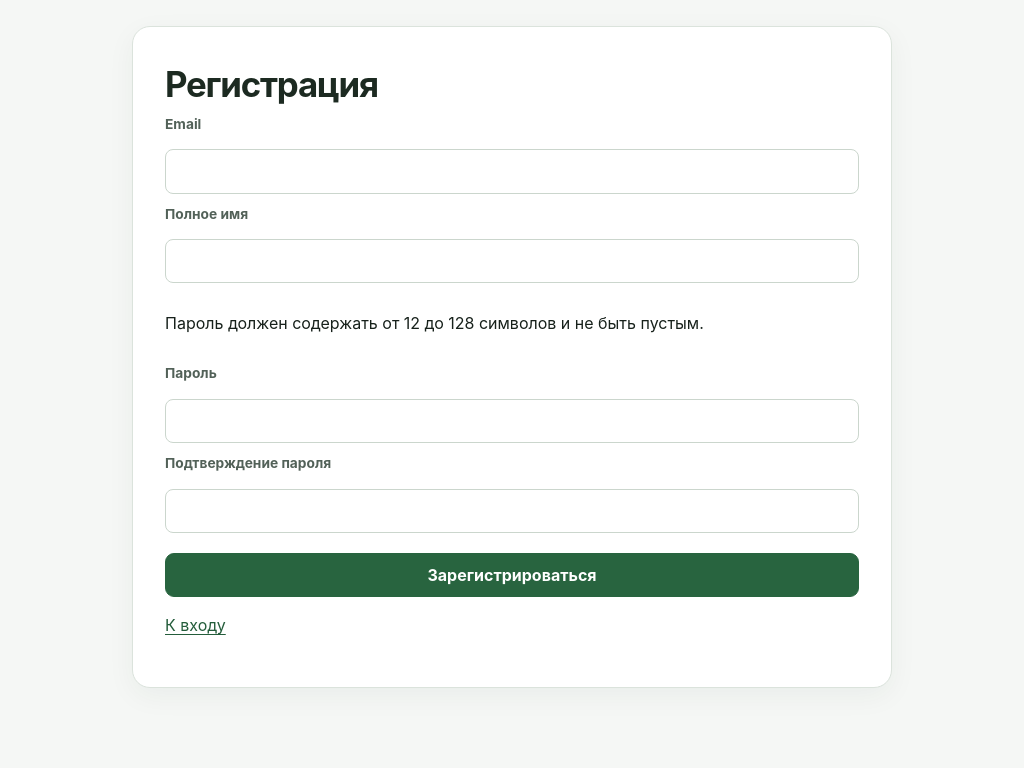
Test case: Accounts › validates registration short
Type "New@Example.com" into the field labelled "Email". click: [512, 171]
box: [165,149,859,194]
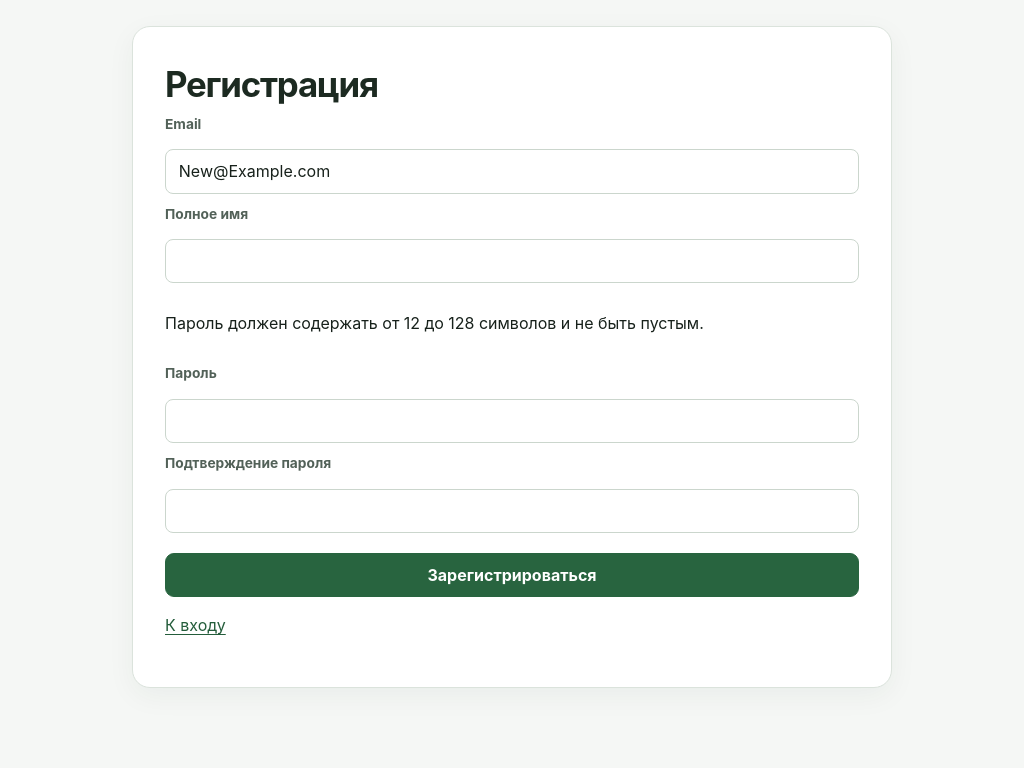
Type "New User" into the field labelled "Полное имя". click: [512, 261]
box: [165,239,859,284]
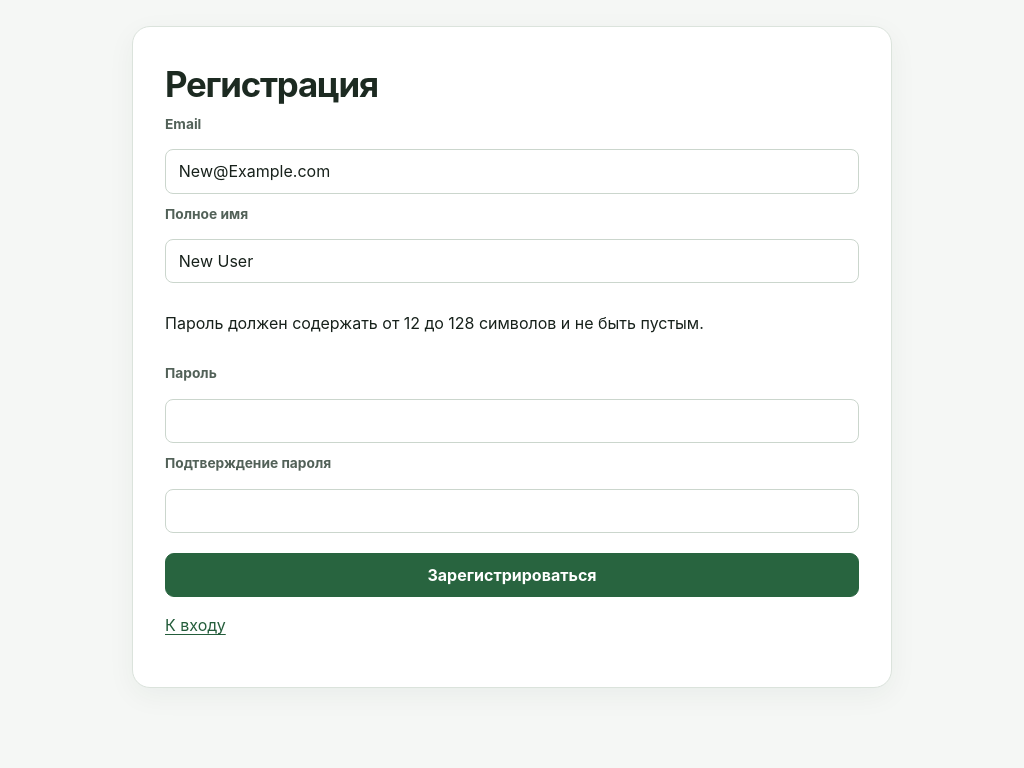
Type "short" into the password field labelled "Пароль". click: [512, 421]
box: [165,399,859,443]
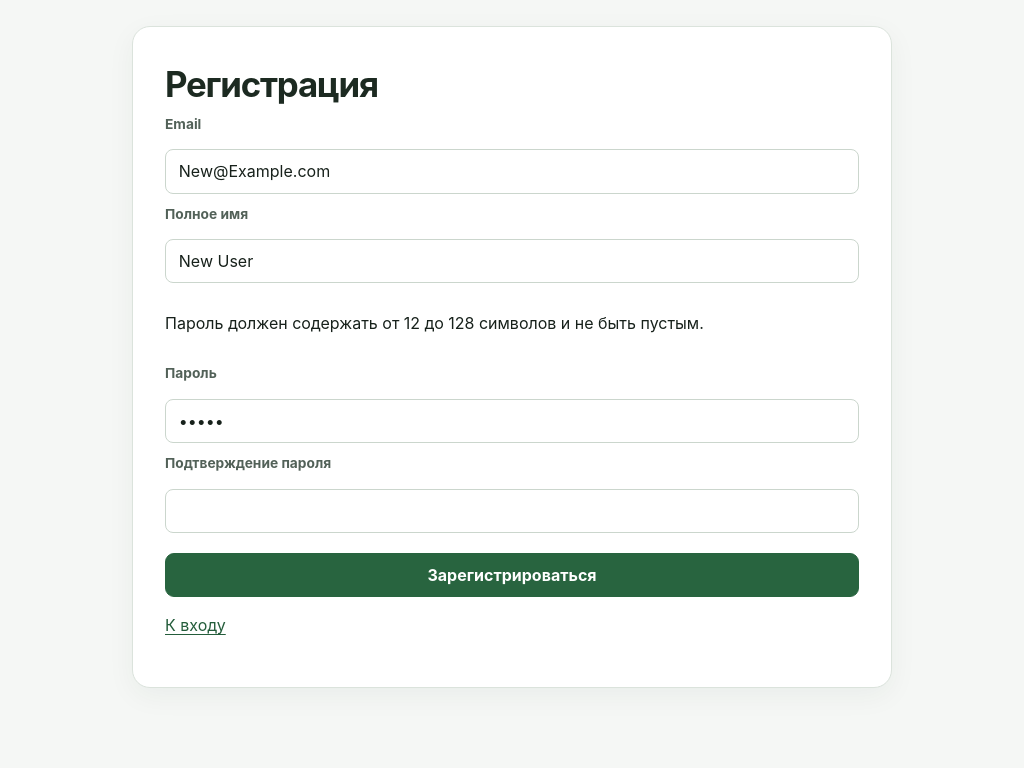
Type "short" into the password field labelled "Подтверждение пароля". click: [512, 511]
box: [165,489,859,533]
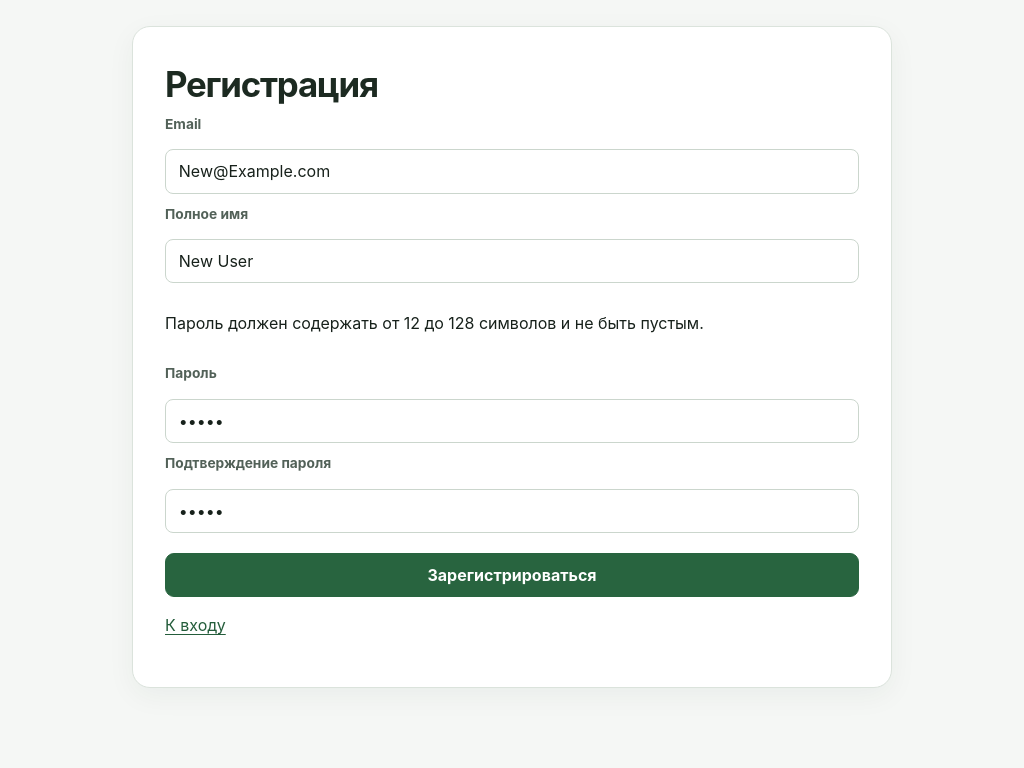
Click the button "Зарегистрироваться". click: [512, 575]
box: [165,553,859,597]
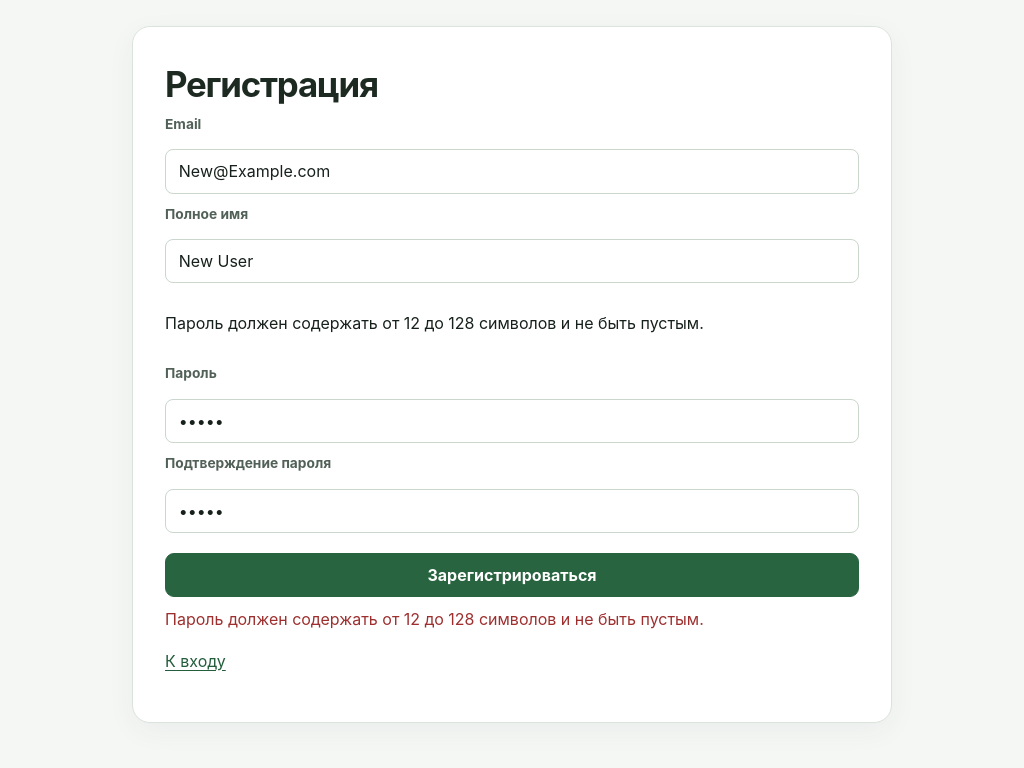
Check: the message shows "от 12 до 128", box [165,609,704,629]
